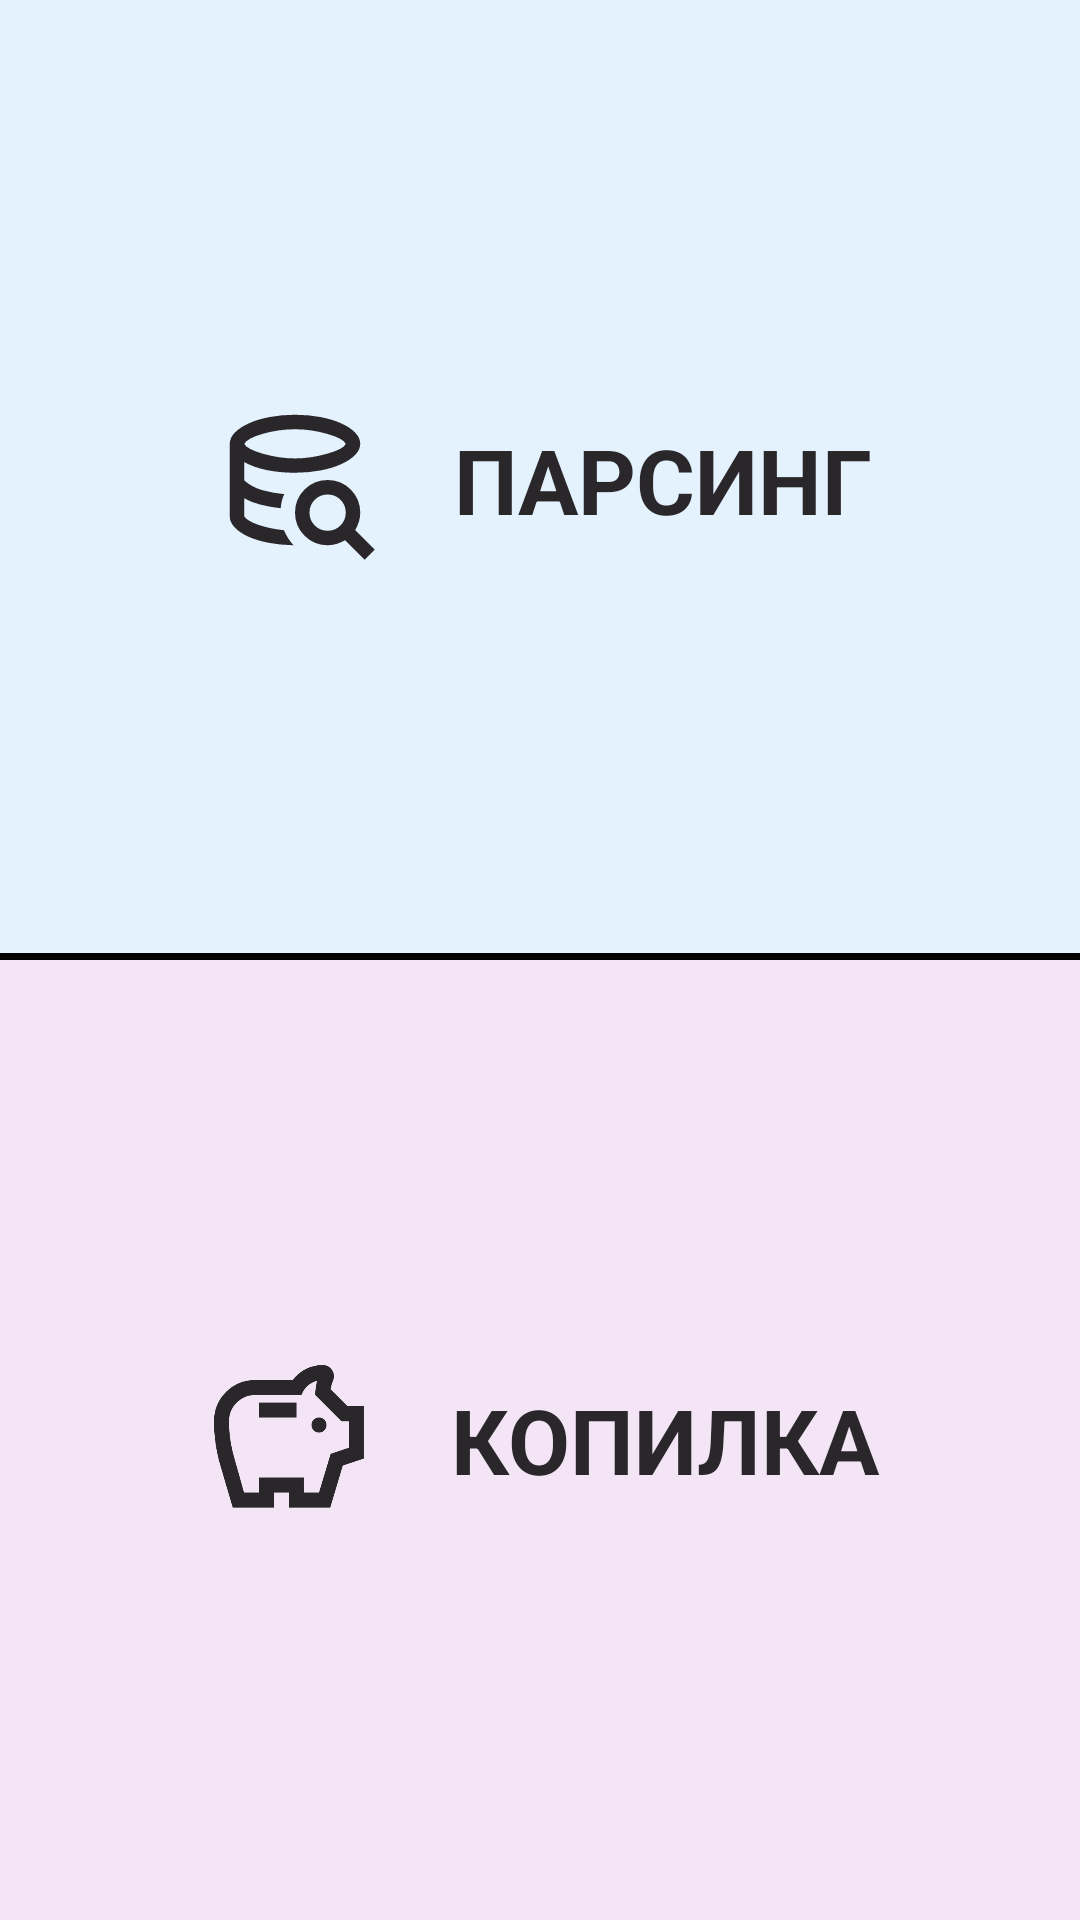

Point at icon controls on the screen. Image size 1080x1920, points as [x,y].
saving: [289,1436]
search: [302,487]
